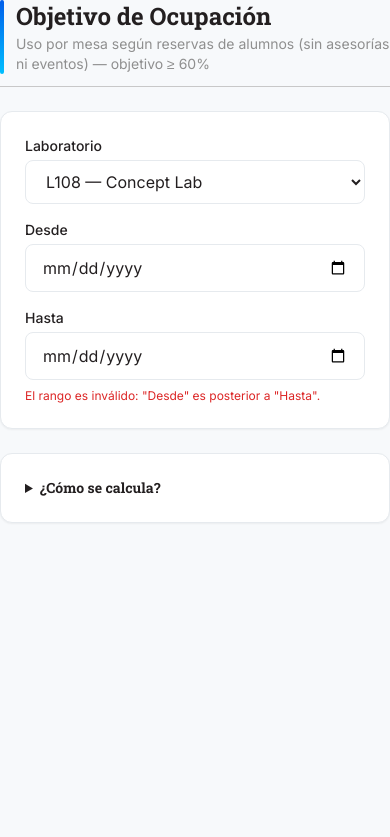
Scenario: OcupacionPage — render › renderiza y, al fijar el rango, muestra la tabla por mesa
Expected: the heading "Objetivo de Ocupación" is shown, [16,0,271,32]
In the 1st date field: point(195, 268) [25,244,365,292], type "2026-04-13"
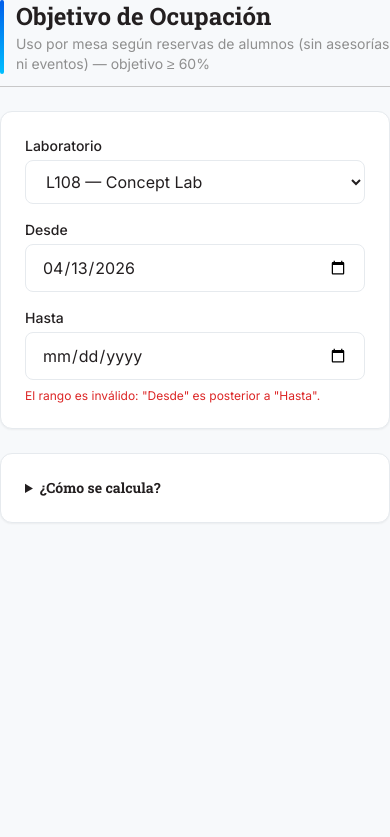
In the 2nd date field: point(195, 356) [25,332,365,380], type "2026-04-13"
(page scrolled)
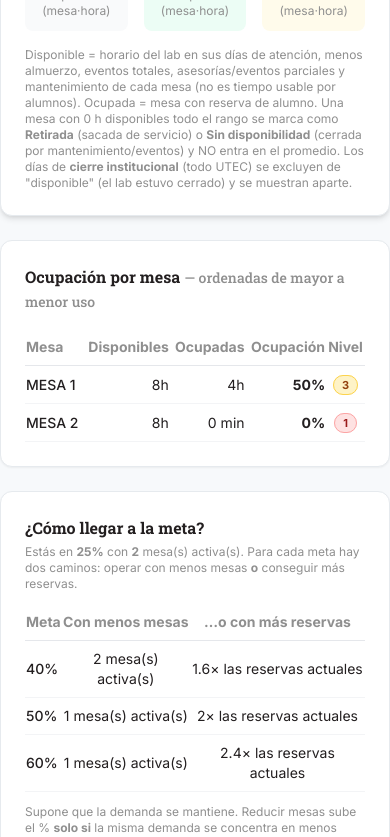
Expected: the text "MESA 1" is shown, [25,366,83,404]
Expected: the text "MESA 2" is shown, [25,404,83,442]
